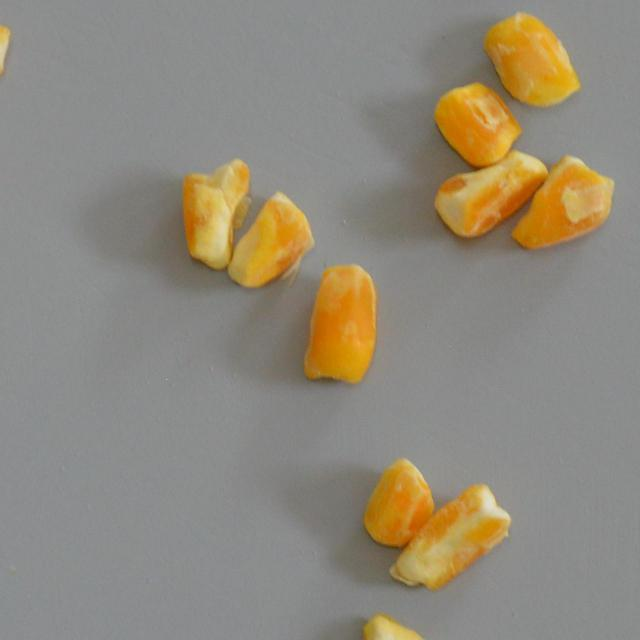dañado: (388, 478, 513, 594), (432, 141, 550, 244), (510, 148, 618, 252), (482, 7, 584, 112), (300, 262, 379, 387), (226, 187, 316, 292), (430, 74, 524, 168), (181, 155, 250, 270), (360, 453, 438, 548), (353, 610, 466, 640), (0, 4, 14, 89)
